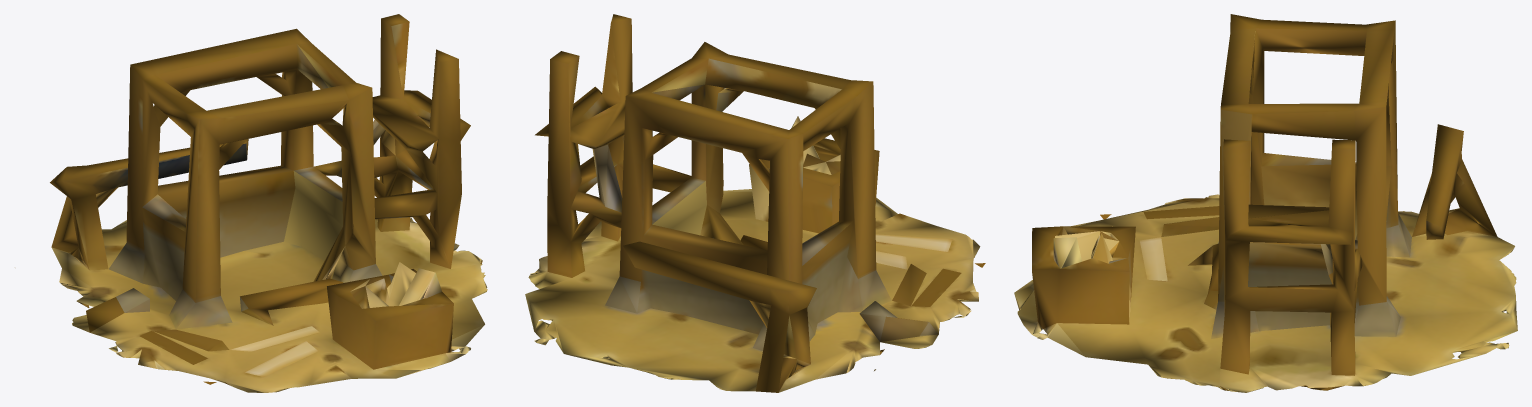
File: underConstruction.glb
3 renders of one model, left to right at view 1: azimuth 30°, elevation 25°; view 2: azimuth 150°, elevation 25°; view 3: azimuth 270°, elevation 25°, orthographic. The views are drawn at different scales.
Visible parts, largest first — view 1: tmpimot_g9f.ply; view 2: tmpimot_g9f.ply; view 3: tmpimot_g9f.ply.
Boxes of the visible parts, box(x1,y1,x2,y2) form: tmpimot_g9f.ply: box(50, 14, 487, 392); tmpimot_g9f.ply: box(525, 14, 985, 392); tmpimot_g9f.ply: box(1014, 14, 1517, 392).
Size of the model in its own units: 1.83 by 0.9886 by 1.94.
1 material, 1 textured.
